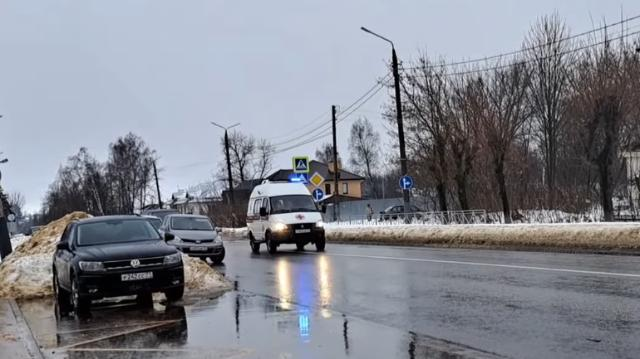ambulance: (248, 184, 326, 257)
non emergency car: (54, 219, 184, 312), (162, 215, 224, 264), (381, 204, 426, 223)
